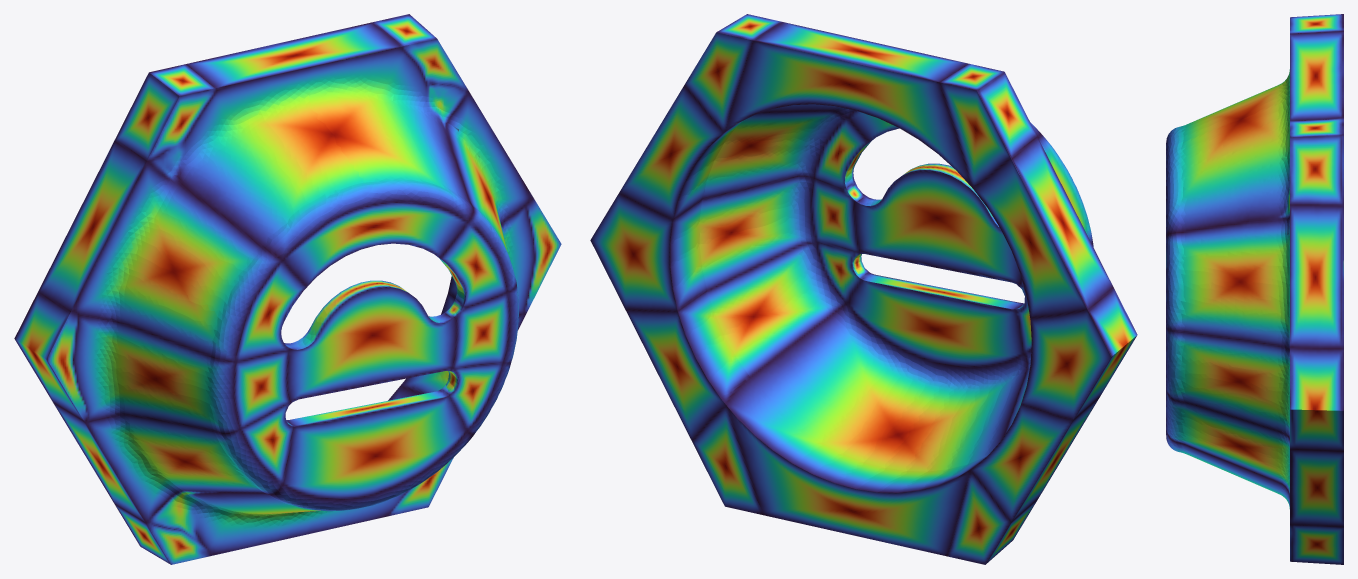
Rendered from gen0.glb.
The picture shows the model from 3 angles, left to right: view 1: azimuth 30°, elevation 25°; view 2: azimuth 150°, elevation 25°; view 3: azimuth 270°, elevation 25°; orthographic projection. The views are drawn at different scales.
Parts seen in each view (by area): view 1: Node; view 2: Node; view 3: Node.
Boxes of the visible parts, x1,y1,x2,y2 form: Node: (14, 14, 561, 564); Node: (590, 14, 1137, 564); Node: (1166, 14, 1343, 564).
Size of the model in its own units: 103 by 89.79 by 33.
1 material, 1 textured.
